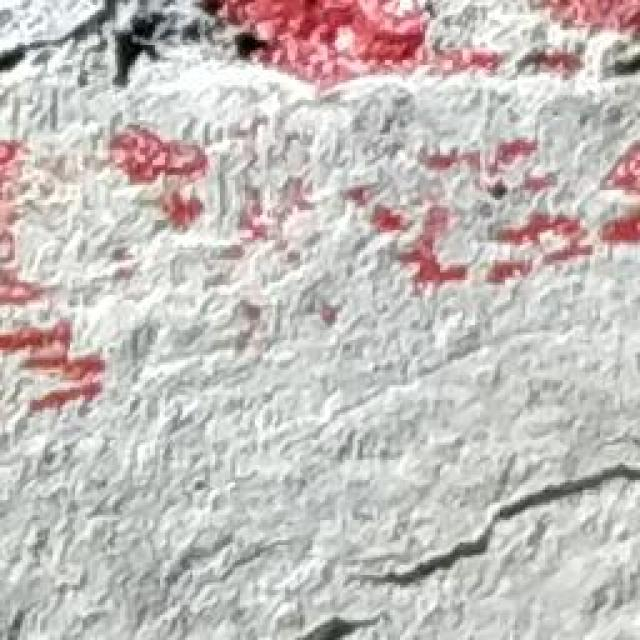Diagonal: (286, 458, 640, 640)
Rippled: (0, 0, 640, 125)
